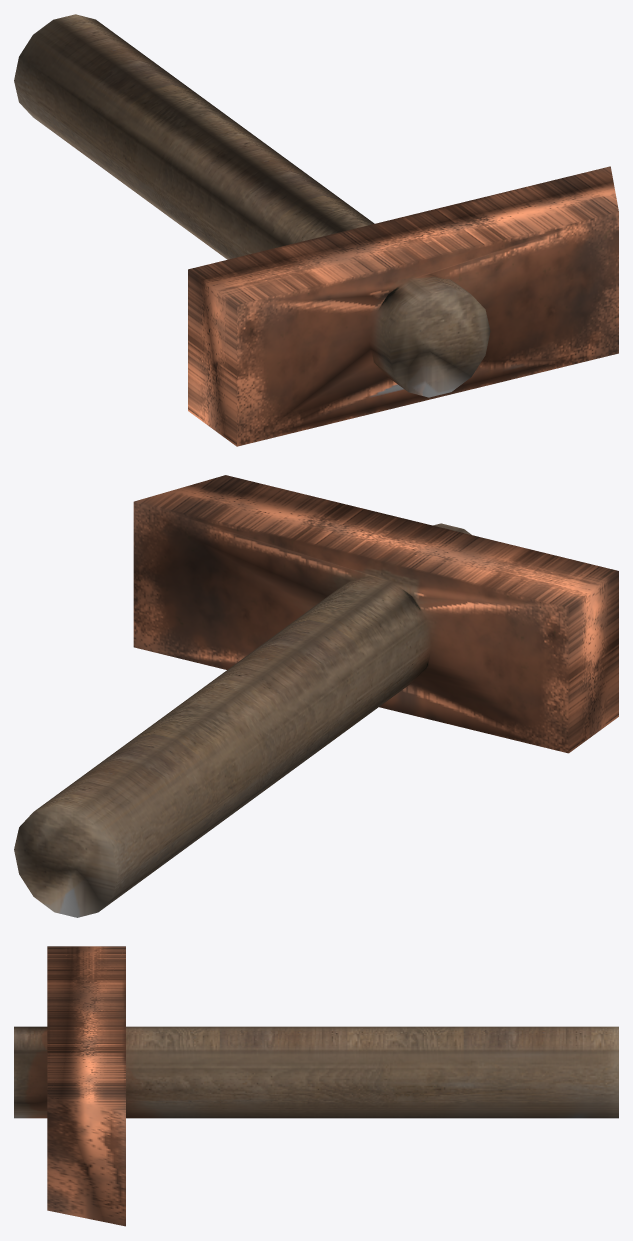
The model's file is Molotok.obj.
3 renders of one model, top to bottom at view 1: azimuth 30°, elevation 25°; view 2: azimuth 150°, elevation 25°; view 3: azimuth 270°, elevation 25°, orthographic. The views are drawn at different scales.
Visible parts, largest first — view 1: Cylinder001; view 2: Cylinder001; view 3: Cylinder001.
Part boxes in pixels (x1,y1,x2,y2): Cylinder001: (14,14,618,446); Cylinder001: (14,475,618,917); Cylinder001: (14,946,618,1226).
Bounding box in the file's own units: 51.89 × 16.61 × 79.91.
1 material, 1 textured.
